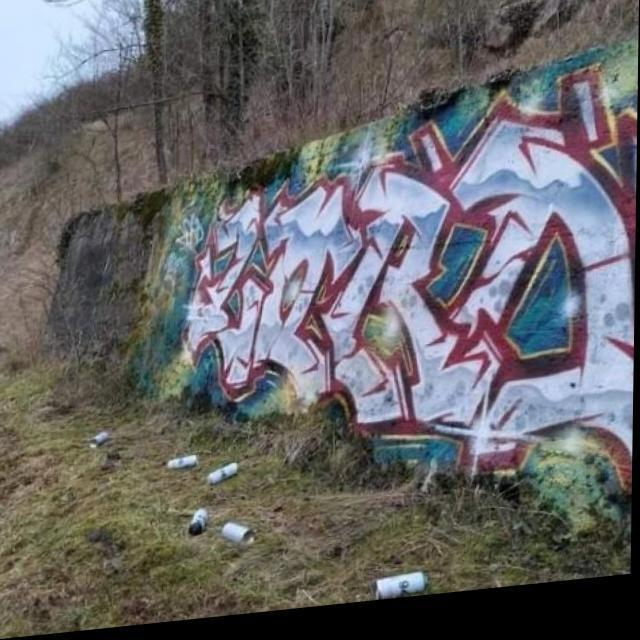nonspitting: (177, 66, 640, 488)
